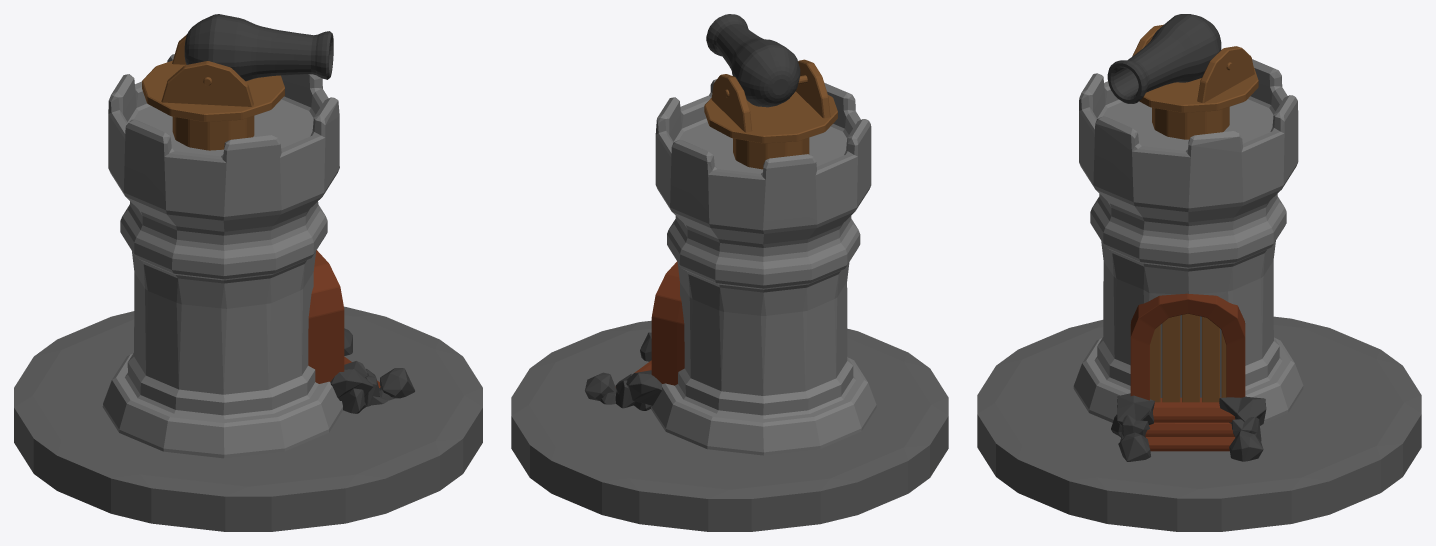
Rendered from defence_Phao_5.fbx.
3 views of the same model, side by side, from view 1: azimuth 30°, elevation 25°; view 2: azimuth 150°, elevation 25°; view 3: azimuth 270°, elevation 25° (orthographic). The views are drawn at different scales.
Parts seen in each view (by area): view 1: Turret_1_Level_2_Base, Turret_1_Level_2_Weapon; view 2: Turret_1_Level_2_Base, Turret_1_Level_2_Weapon; view 3: Turret_1_Level_2_Base, Turret_1_Level_2_Weapon.
Part boxes in pixels (x1,y1,x2,y2): Turret_1_Level_2_Base: (14,54,482,531); Turret_1_Level_2_Weapon: (142,14,333,150); Turret_1_Level_2_Base: (511,79,948,531); Turret_1_Level_2_Weapon: (704,14,837,169); Turret_1_Level_2_Base: (977,59,1421,531); Turret_1_Level_2_Weapon: (1107,14,1258,139).
Size of the model in its own units: 385 by 389 by 385.
